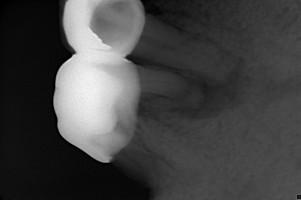Furcation Involvement: (172, 57, 246, 118)
